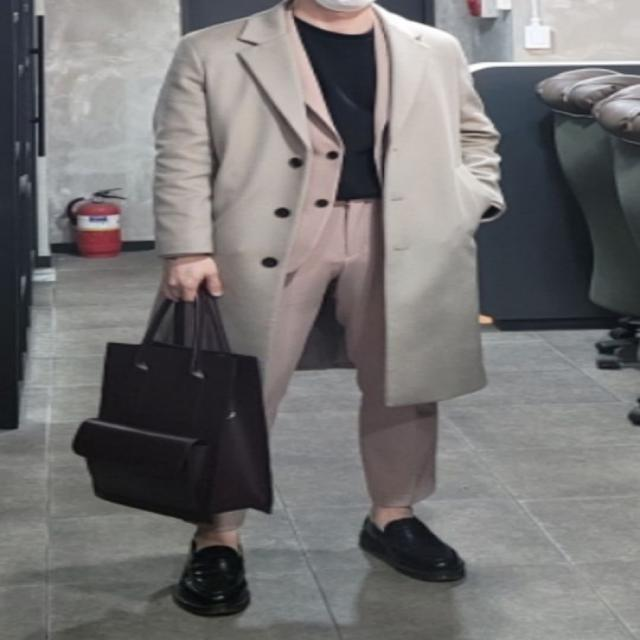coat: (151, 2, 508, 405)
slacks: (198, 190, 439, 531)
